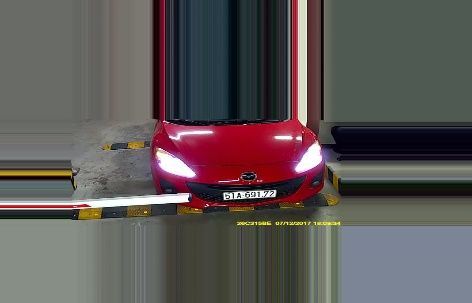plate: (221, 189, 278, 198)
